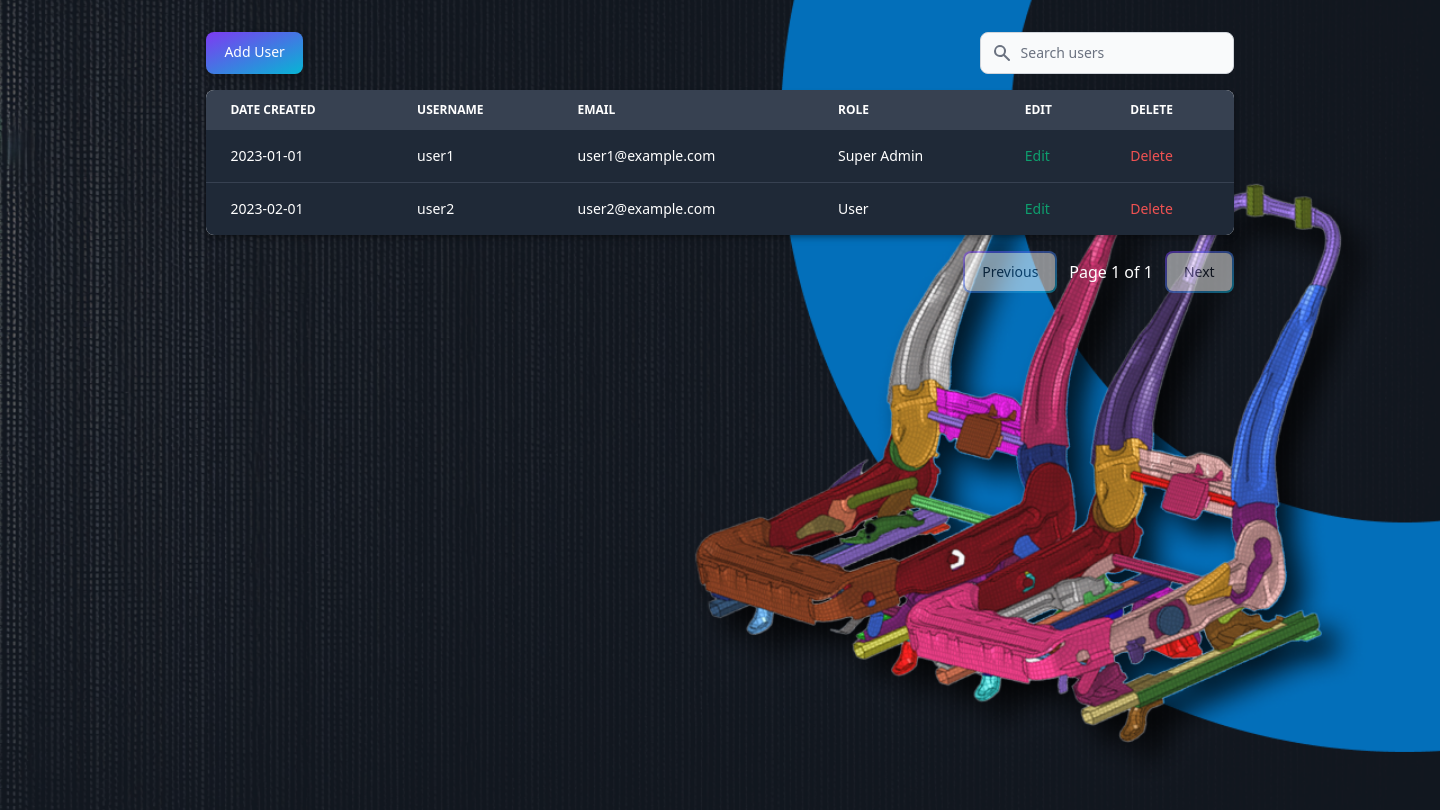
Test: DashUsers Component › opens add user modal when "Add User" button is clicked
Click the button "Add User" at (255, 53), box [206,32,303,74]
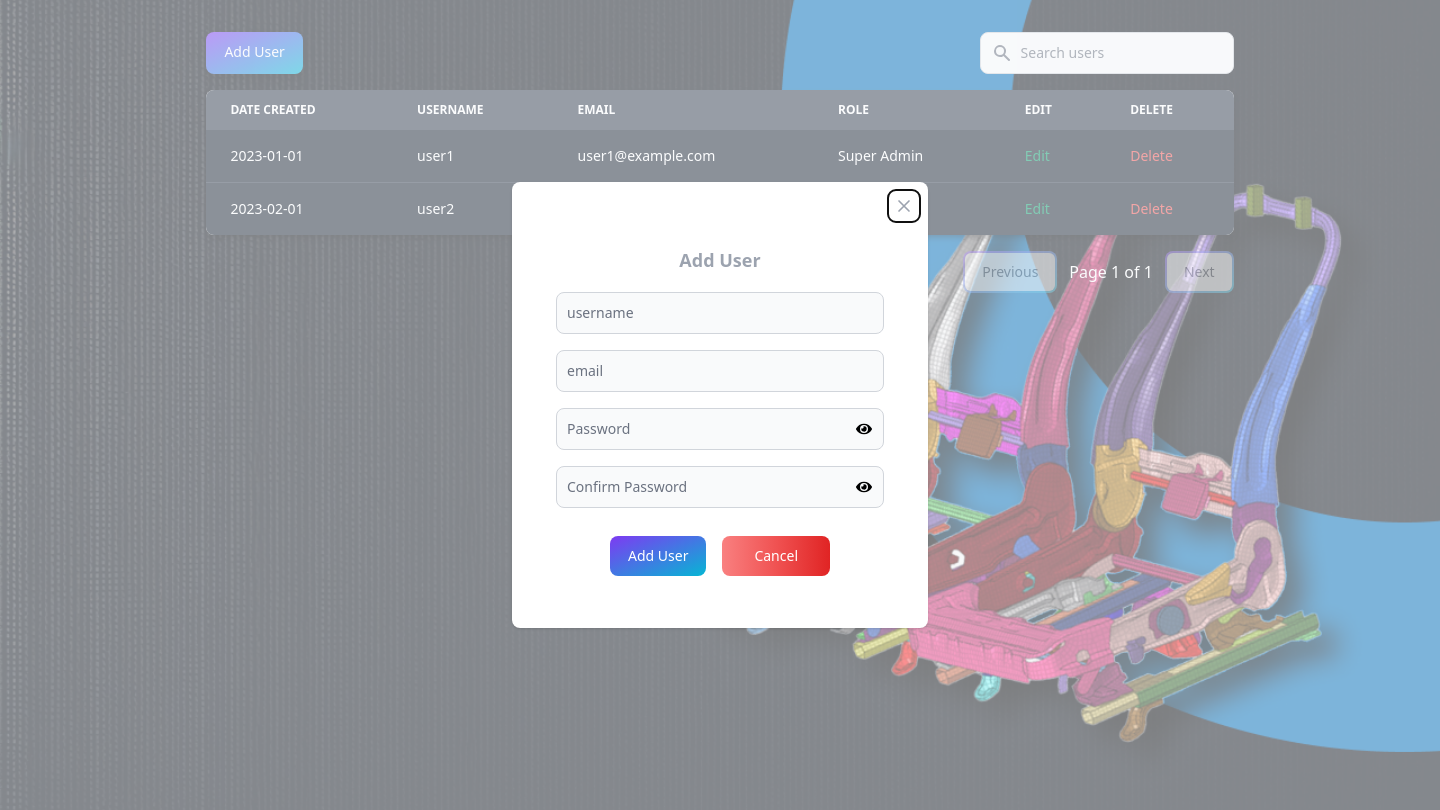
Expected: the heading "Add User" is shown, [679,248,761,272]
